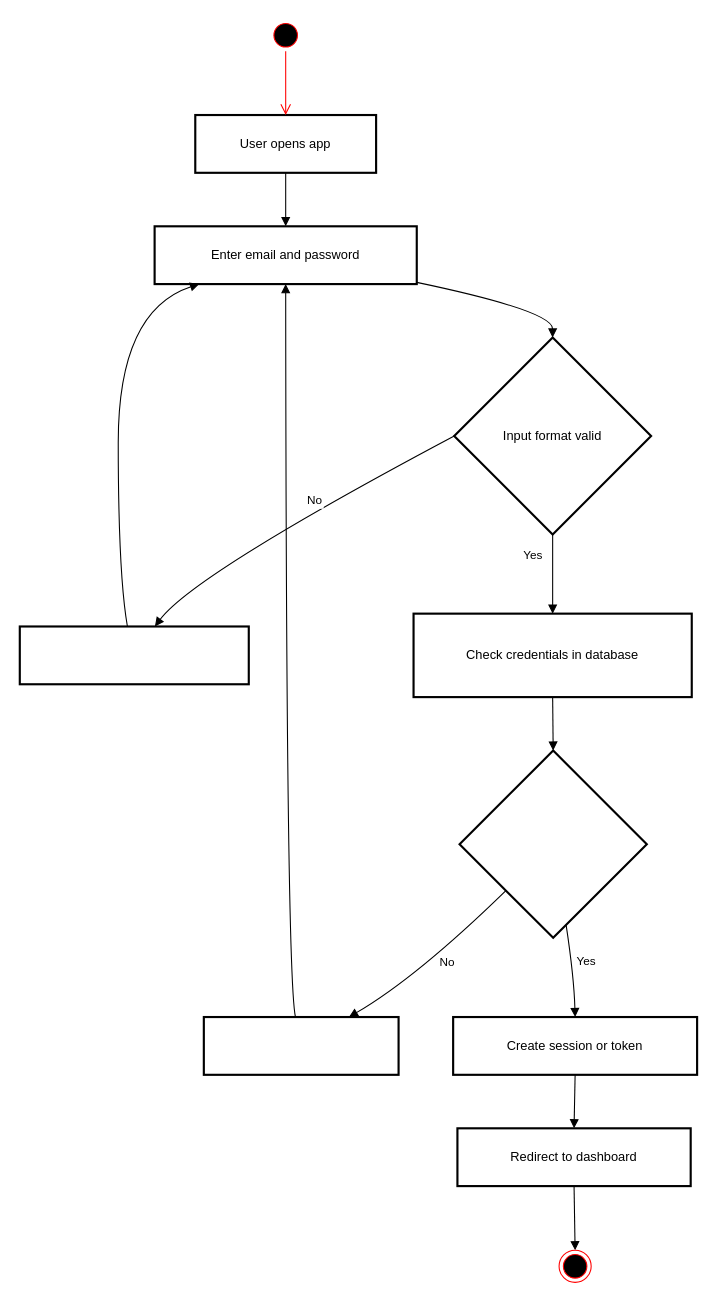
The diagram is 716 pixels wide and 1301 high, and some of its shapes have lost their labels. Each missing label, with the centre of its shape:
"Credentials valid" belongs at (552,843).
"Show login failed" belongs at (300,1045).
"Show validation error" belongs at (133,655).
